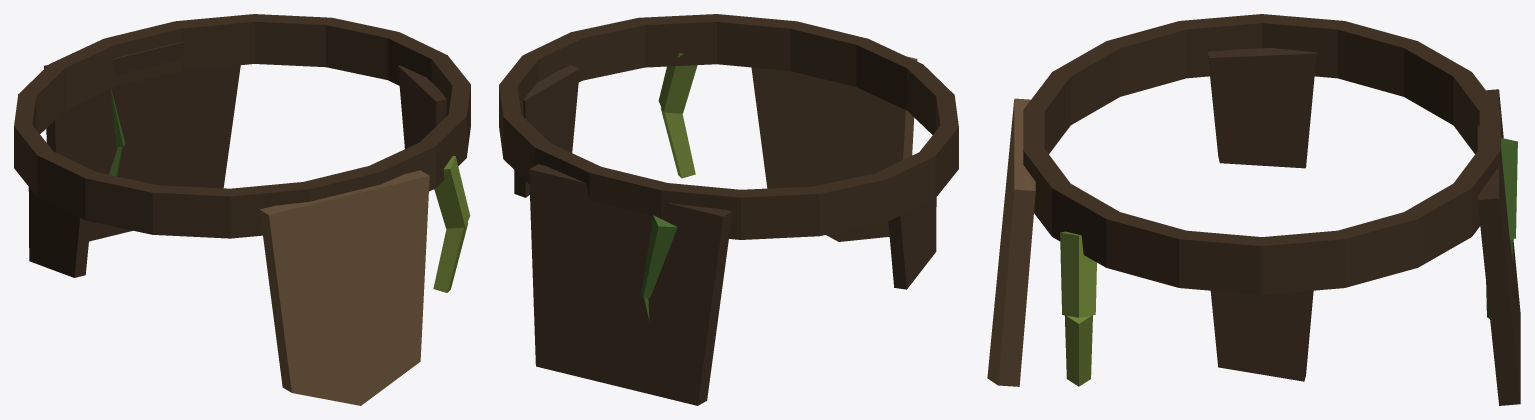
File: troll_loincloth.glb
The picture shows the model from 3 angles, left to right: view 1: azimuth 30°, elevation 25°; view 2: azimuth 150°, elevation 25°; view 3: azimuth 270°, elevation 25°; orthographic projection. The views are drawn at different scales.
Visible parts, largest first — view 1: troll_loincloth; view 2: troll_loincloth; view 3: troll_loincloth.
Part boxes in pixels (box(x1,y1,x2,y2)): troll_loincloth: box(14, 14, 470, 405); troll_loincloth: box(499, 14, 958, 405); troll_loincloth: box(987, 14, 1520, 405).
Bounding box in the file's own units: 1.02 × 0.5114 × 0.9899.
